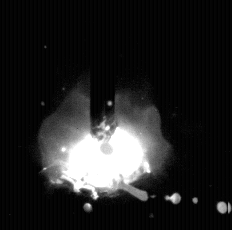arame: (91, 0, 116, 139)
poca: (38, 0, 169, 230)
